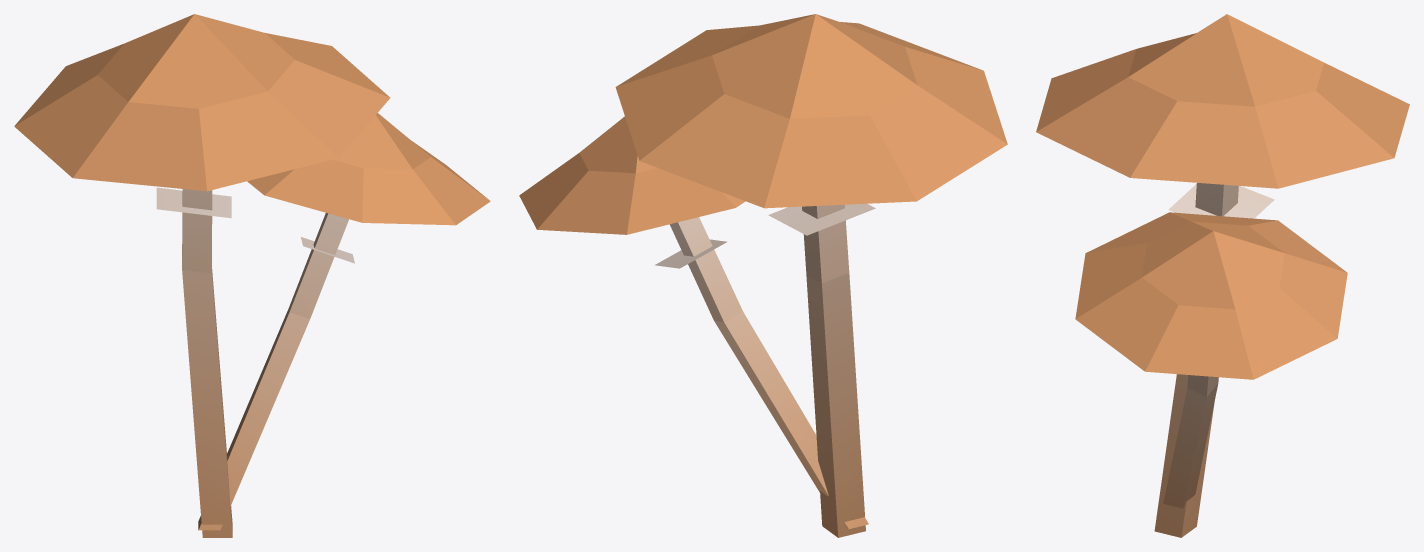
Rendered from Mushroom_i_07.fbx.
3 renders of one model, left to right at view 1: azimuth 30°, elevation 25°; view 2: azimuth 150°, elevation 25°; view 3: azimuth 270°, elevation 25°, orthographic. The views are drawn at different scales.
Visible parts, largest first — view 1: Mushroom_i_07; view 2: Mushroom_i_07; view 3: Mushroom_i_07.
Part boxes in pixels (x1,y1,x2,y2): Mushroom_i_07: (14,14,490,537); Mushroom_i_07: (519,14,1007,537); Mushroom_i_07: (1036,14,1409,537).
Bounding box in the file's own units: 0.3267 × 0.3752 × 0.2465.
